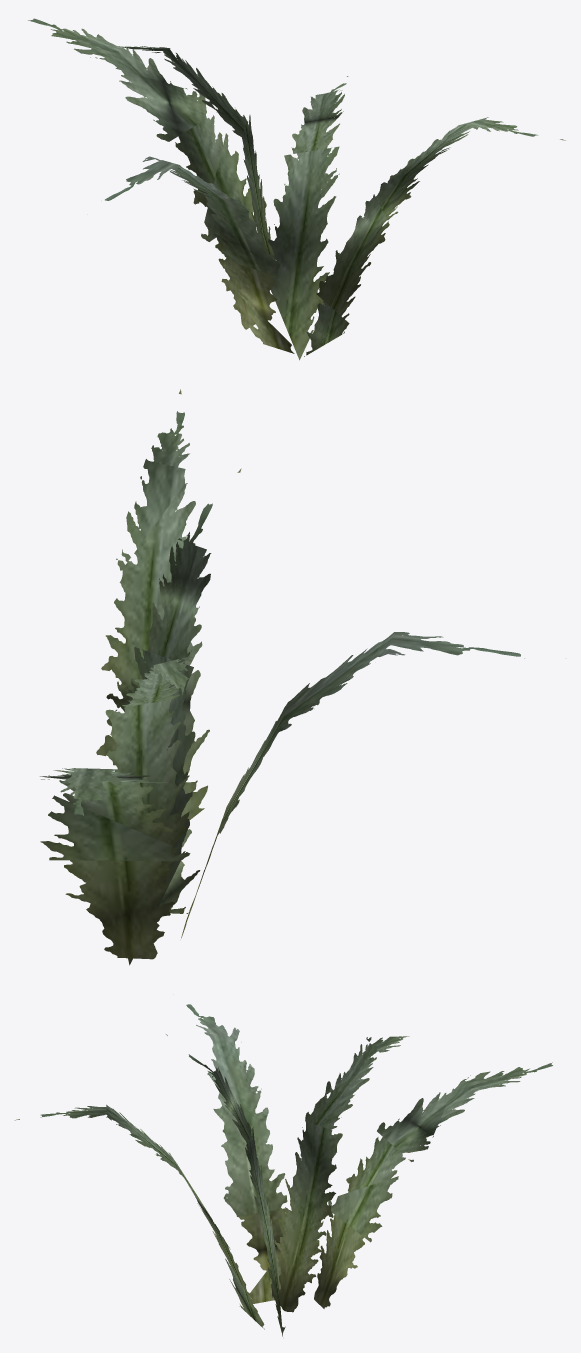
The model's file is OW_LOB_BUSH_V2.glb.
The picture shows the model from 3 angles, top to bottom: view 1: azimuth 30°, elevation 25°; view 2: azimuth 150°, elevation 25°; view 3: azimuth 270°, elevation 25°; orthographic projection. The views are drawn at different scales.
Visible parts, largest first — view 1: Mesh; view 2: Mesh; view 3: Mesh.
Part boxes in pixels (x1,y1,x2,y2): Mesh: (28, 18, 565, 360); Mesh: (40, 389, 524, 965); Mesh: (14, 1004, 552, 1336).
Bounding box in the file's own units: 3.2 × 2.67 × 4.5.
1 material, 1 textured.
